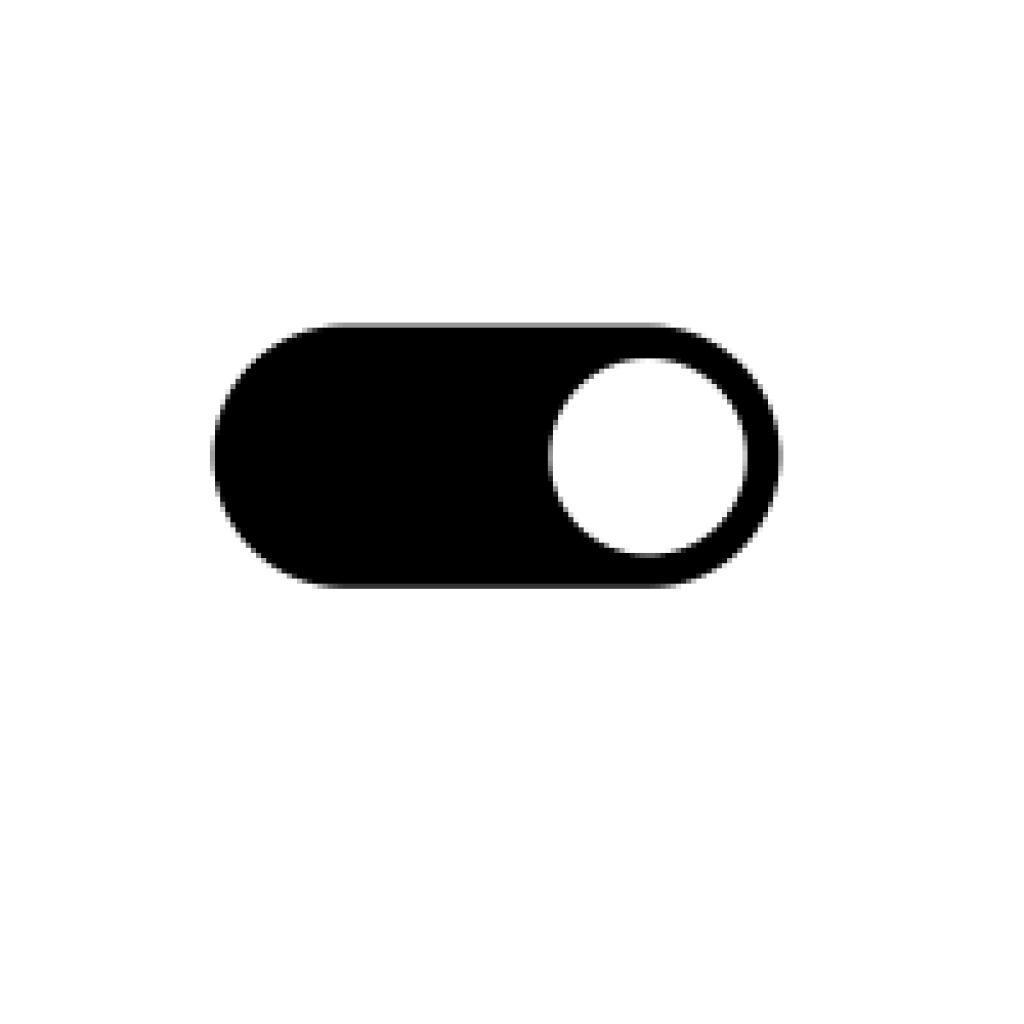switch: (209, 321, 785, 595)
